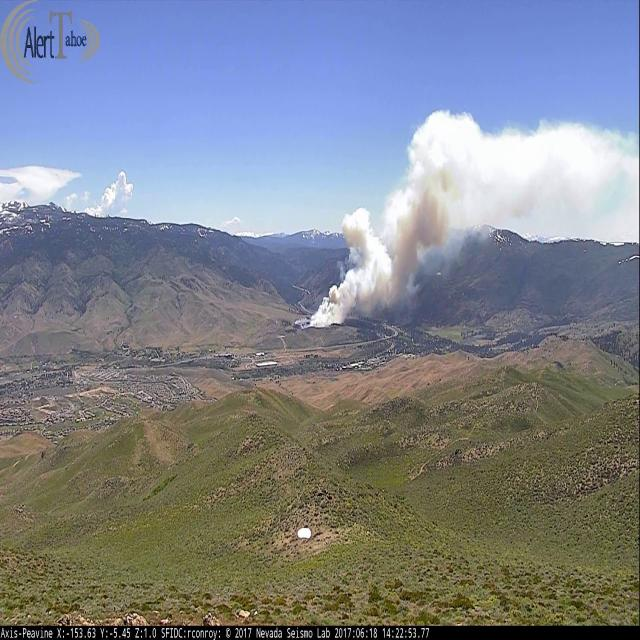smoke: (292, 97, 640, 333)
